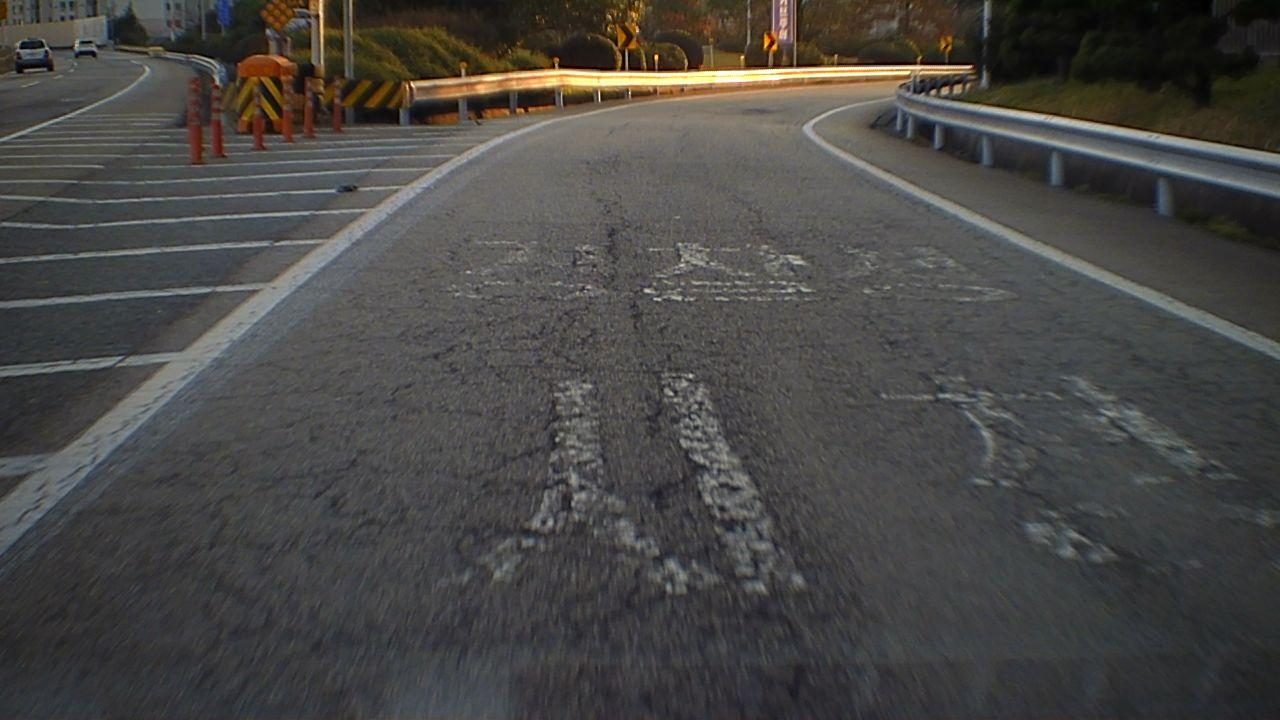erosion: (135, 217, 1280, 718)
trash: (334, 183, 358, 194)
